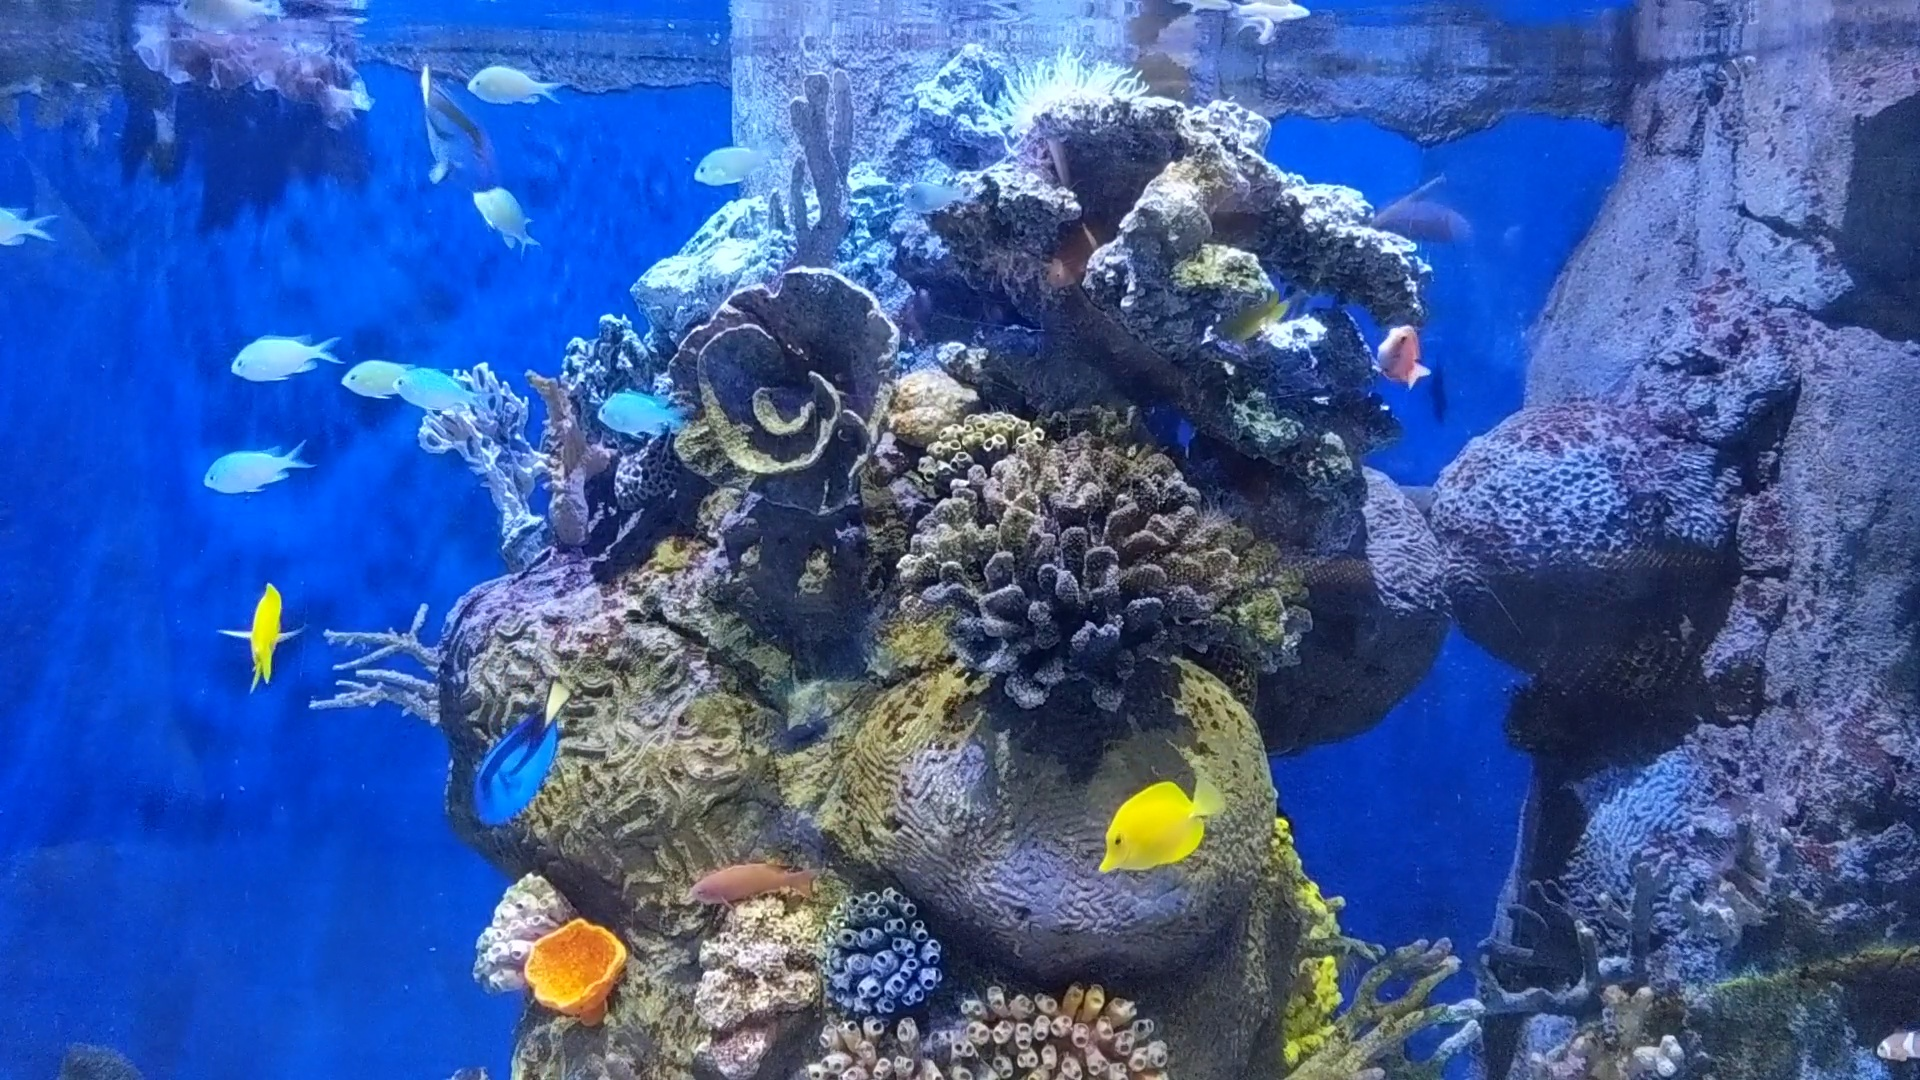blue tang surgeonfish: (458, 680, 574, 841), (404, 71, 488, 179)
damselfish: (175, 433, 326, 506), (654, 129, 785, 200), (582, 376, 703, 452), (390, 345, 492, 436), (464, 45, 564, 125), (225, 322, 326, 388), (460, 183, 546, 253), (348, 324, 407, 406)
pink fish: (1364, 287, 1447, 400)
saddle butterfly fish: (1079, 764, 1230, 891), (229, 570, 295, 696)
